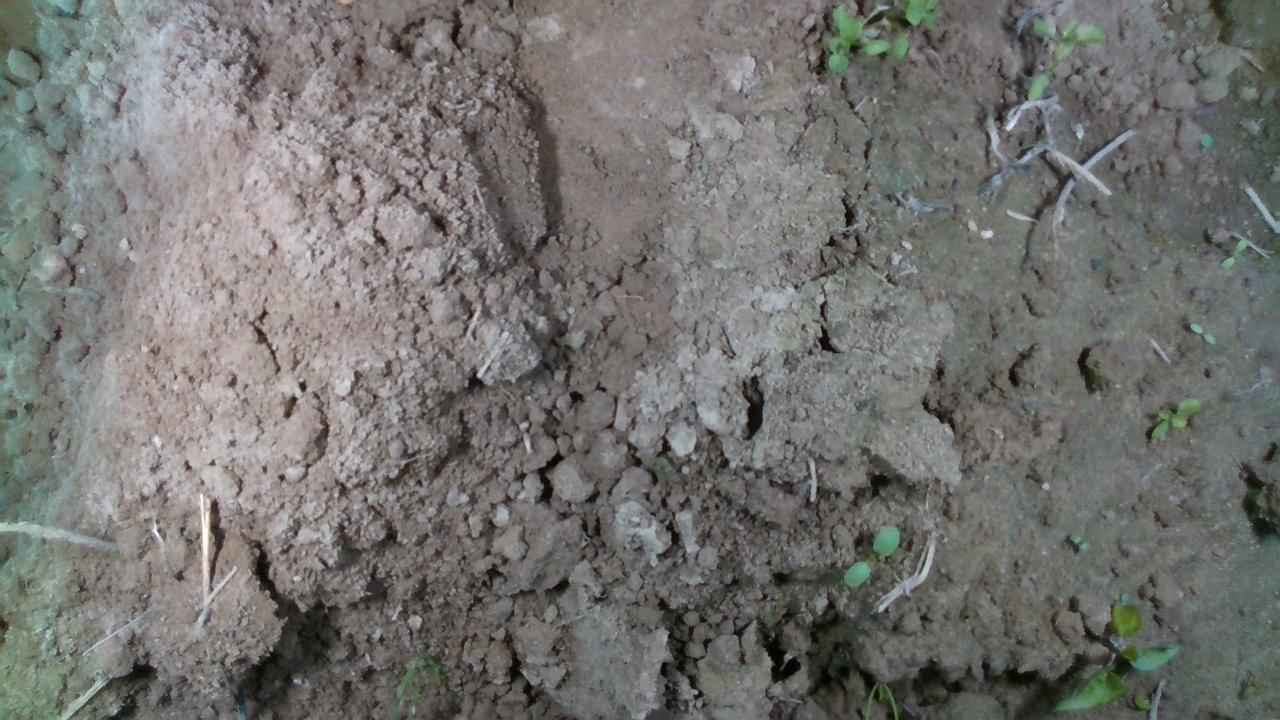weed: (841, 524, 900, 589), (1148, 396, 1200, 440), (1220, 237, 1250, 271), (1187, 321, 1216, 346)
